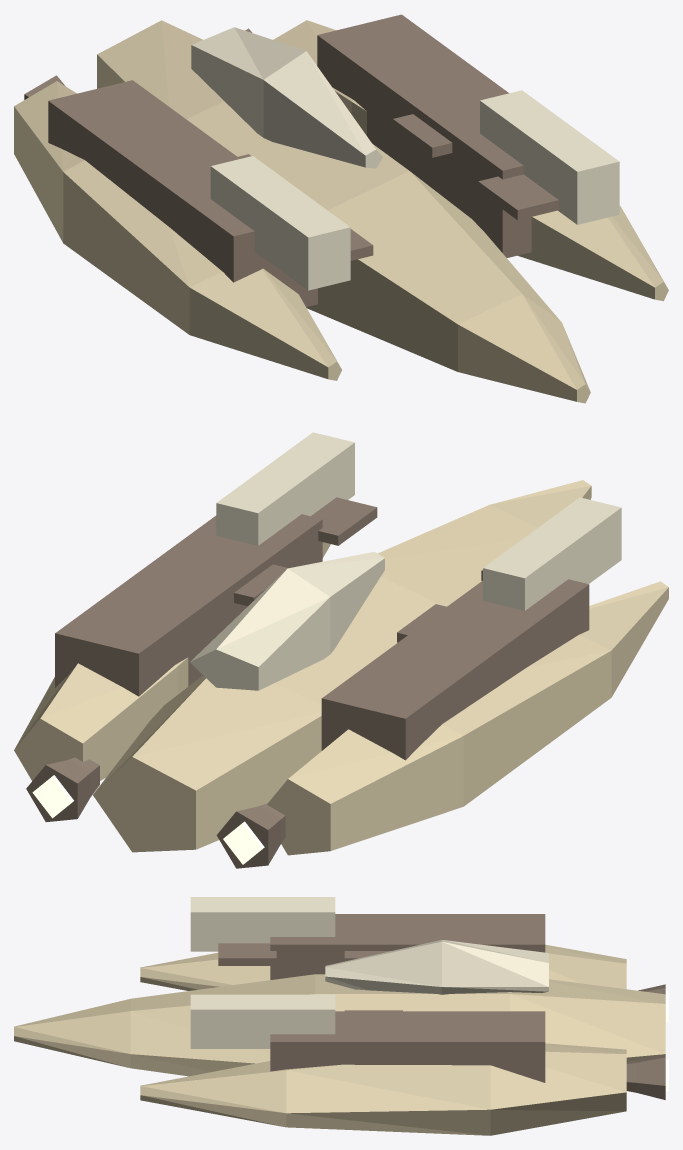
3 views of the same model, one above another, from view 1: azimuth 30°, elevation 25°; view 2: azimuth 150°, elevation 25°; view 3: azimuth 270°, elevation 25° (orthographic). The views are drawn at different scales.
Bounding box in the file's own units: 10.2 × 4.45 × 18.11.
